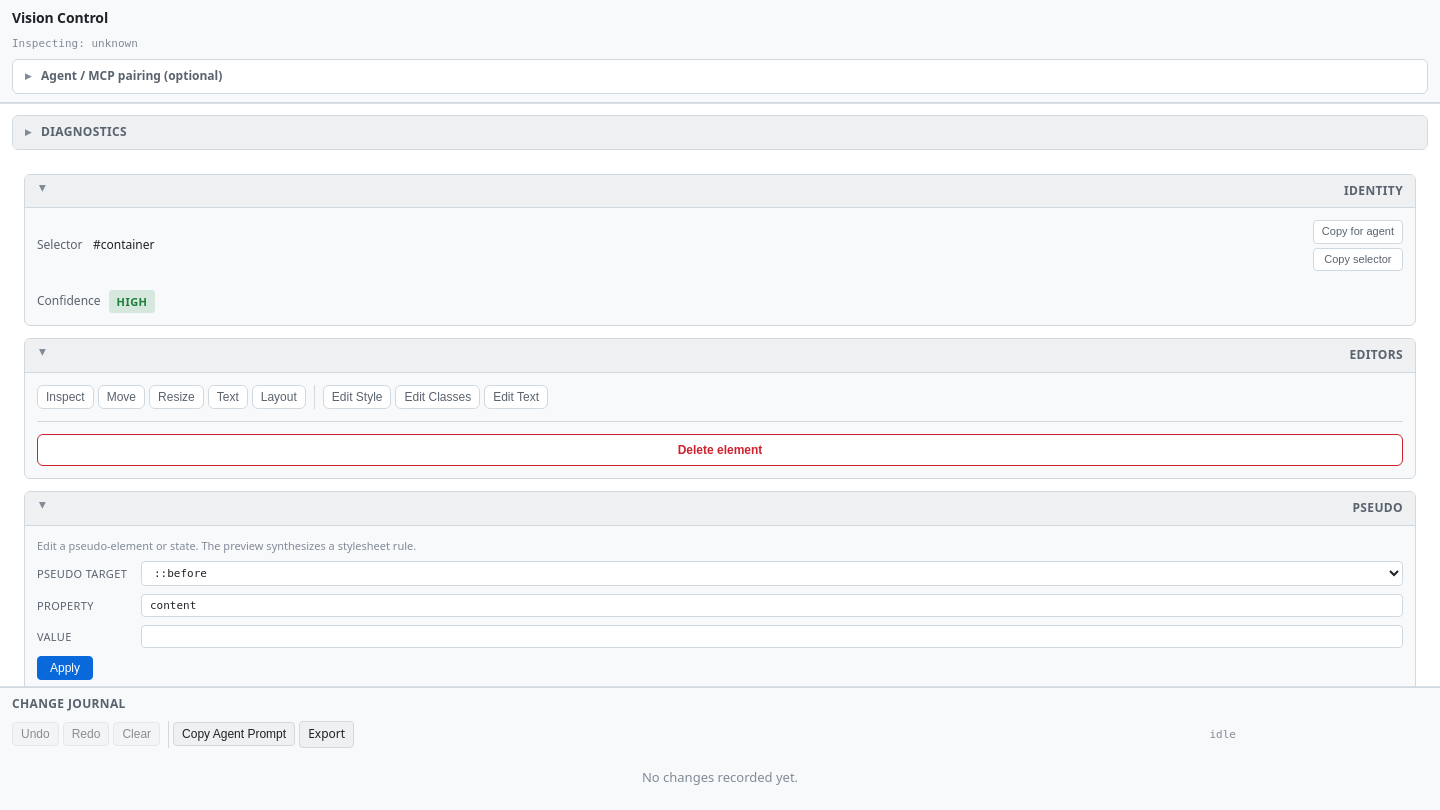
Test case: App journal operations › sends and records a remove-element command from the delete action
Click the button "Delete element": {"x": 720, "y": 450} left=37, top=434, right=1403, bottom=466
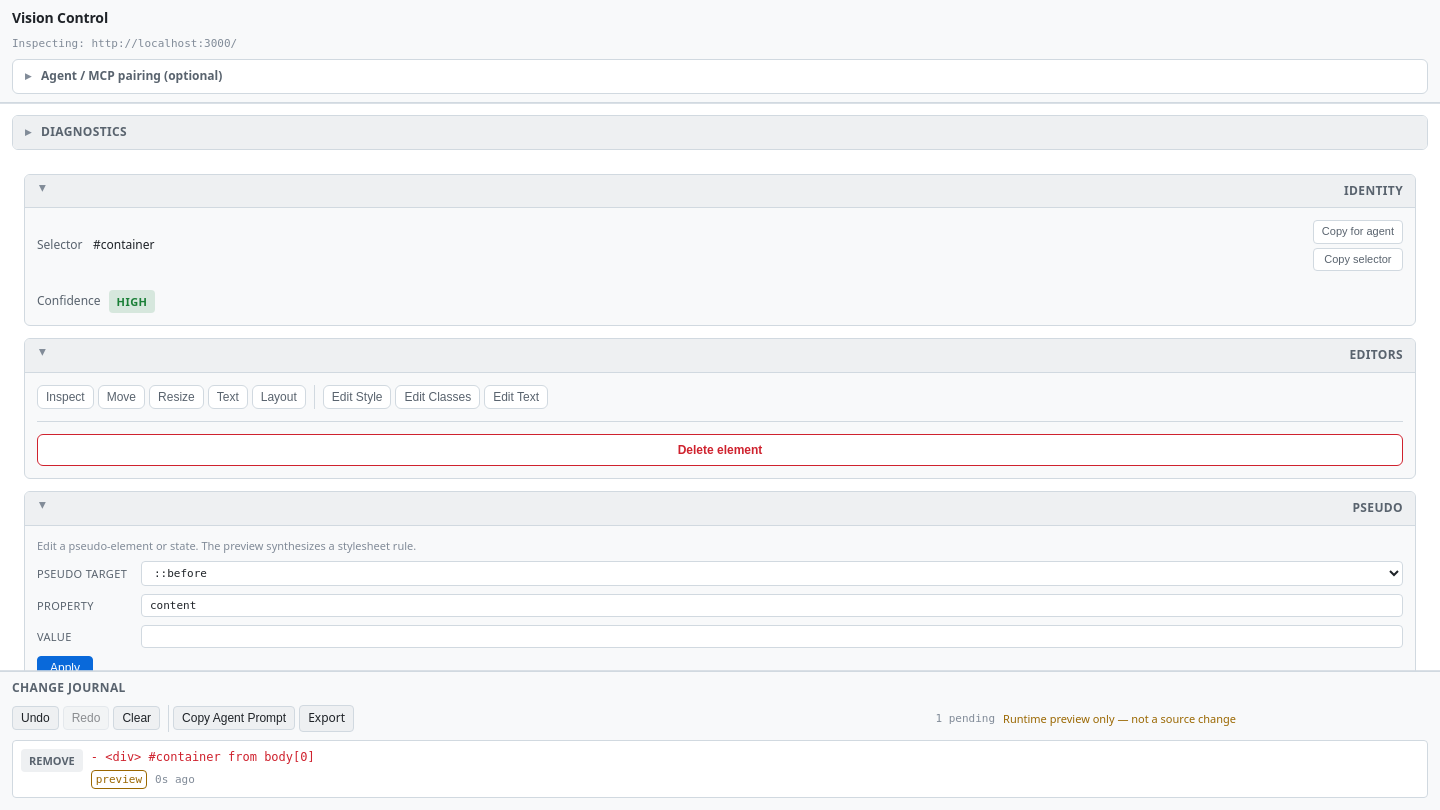
Now the text "Remove" is shown, box left=21, top=749, right=83, bottom=772
